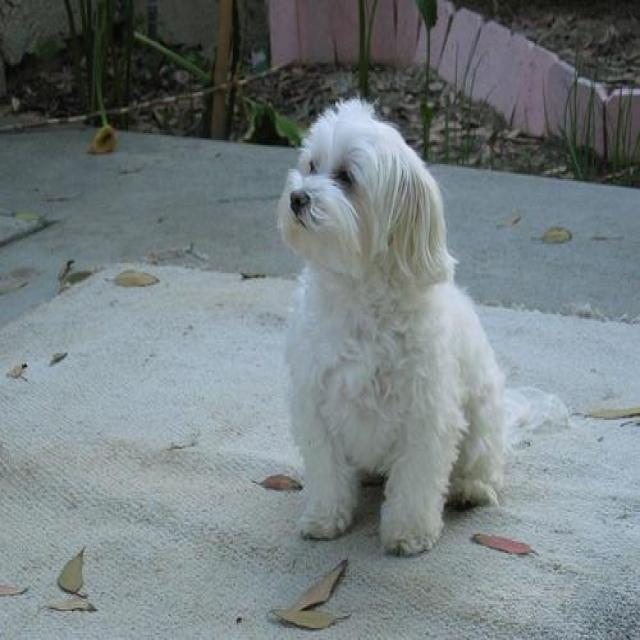relax: (260, 53, 571, 572)
